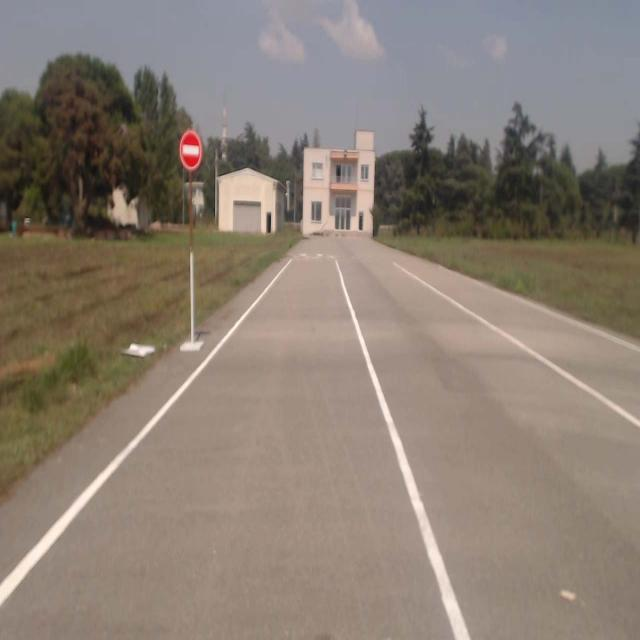girisyok: (180, 129, 202, 170)
